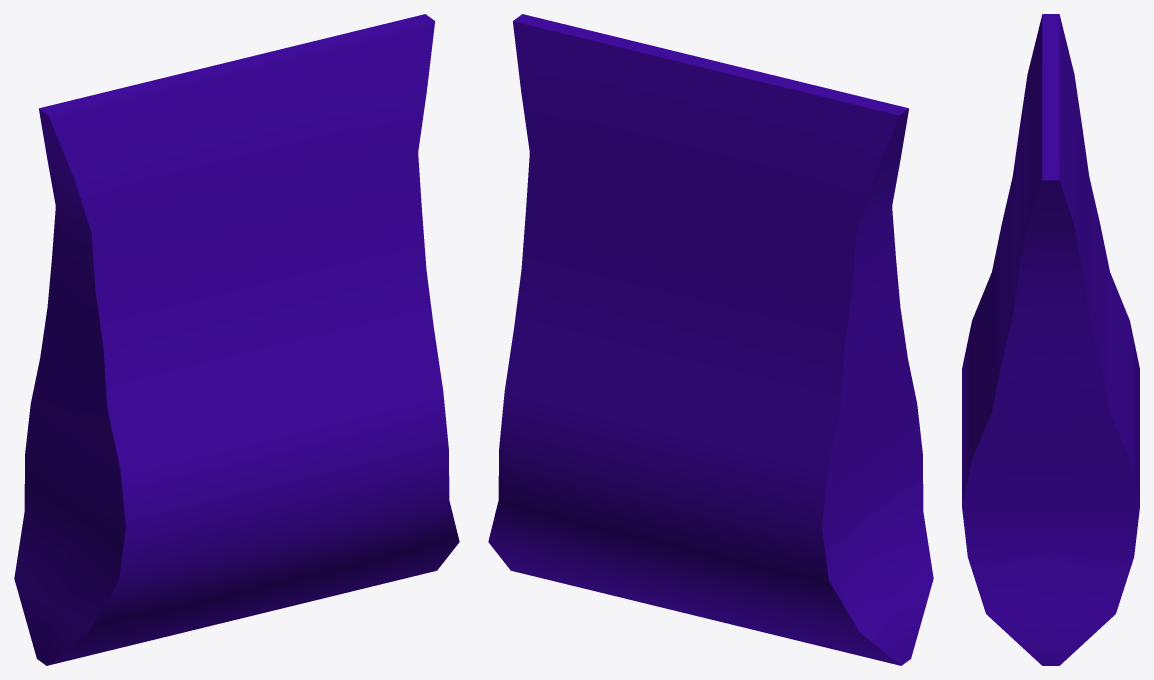
The model's file is ChipBag.fbx.
3 views of the same model, side by side, from view 1: azimuth 30°, elevation 25°; view 2: azimuth 150°, elevation 25°; view 3: azimuth 270°, elevation 25° (orthographic). The views are drawn at different scales.
Parts seen in each view (by area): view 1: ChipBag; view 2: ChipBag; view 3: ChipBag.
Boxes of the visible parts, left/top/right/bottom form: ChipBag: left=14, top=14, right=459, bottom=665; ChipBag: left=488, top=14, right=933, bottom=665; ChipBag: left=962, top=14, right=1139, bottom=665.
Size of the model in its own units: 7.51 by 10.11 by 3.36.
